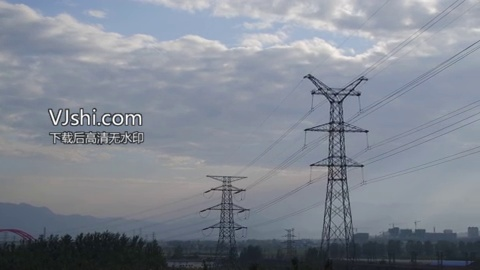tower_body: (299, 69, 372, 267), (201, 168, 255, 270)
tower_foot: (317, 229, 357, 263), (214, 248, 243, 269)
tower_head: (303, 72, 369, 106), (203, 171, 248, 194)
